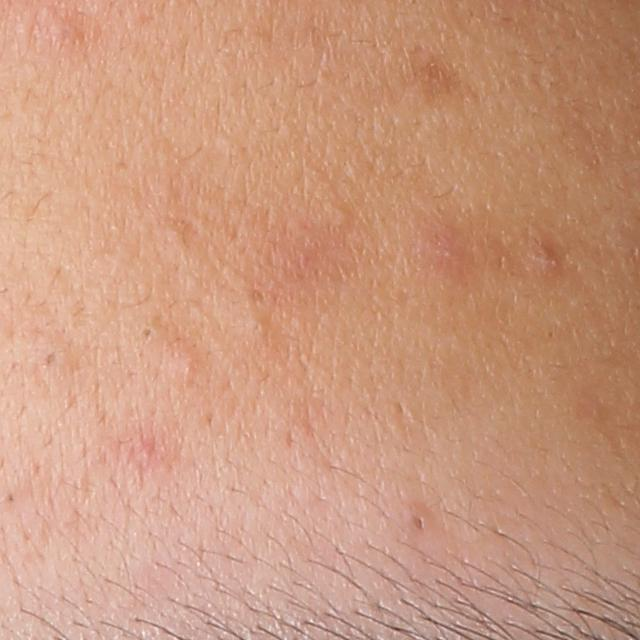comedo: (35, 7, 74, 52), (170, 348, 203, 384), (330, 208, 357, 232), (36, 348, 60, 373), (407, 507, 430, 532), (245, 315, 270, 337), (138, 323, 155, 343)
papule: (523, 235, 564, 278)
